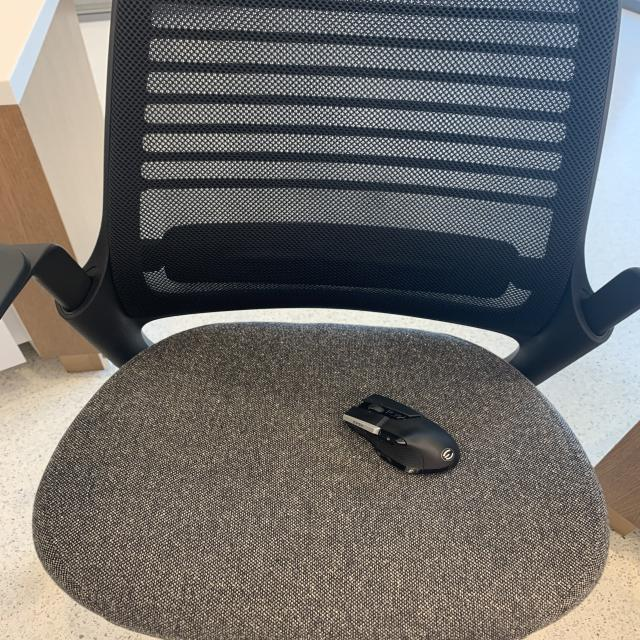Mouse: (337, 388, 470, 481)
